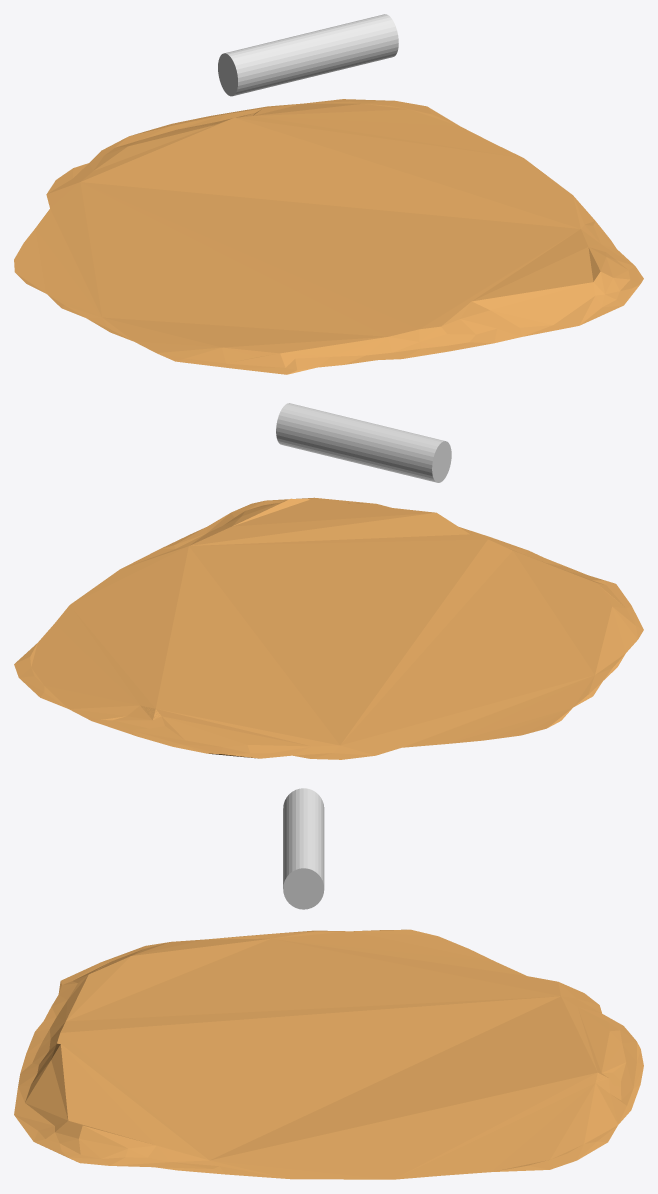
The model's file is mounting_plane.fbx.
3 views of the same model, one above another, from view 1: azimuth 30°, elevation 25°; view 2: azimuth 150°, elevation 25°; view 3: azimuth 270°, elevation 25° (orthographic). The views are drawn at different scales.
Visible parts, largest first — view 1: Mounting_1, Cylinder; view 2: Mounting_1, Cylinder; view 3: Mounting_1, Cylinder.
Part boxes in pixels (<box>): Mounting_1: <box>14,99,643,374</box>; Cylinder: <box>218,14,398,96</box>; Mounting_1: <box>14,497,643,759</box>; Cylinder: <box>276,403,451,482</box>; Mounting_1: <box>14,929,643,1179</box>; Cylinder: <box>283,788,324,909</box>.
Bounding box in the file's own units: 1572 × 653 × 1675.
